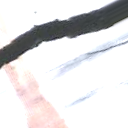crackTip: (1, 1, 128, 71)
